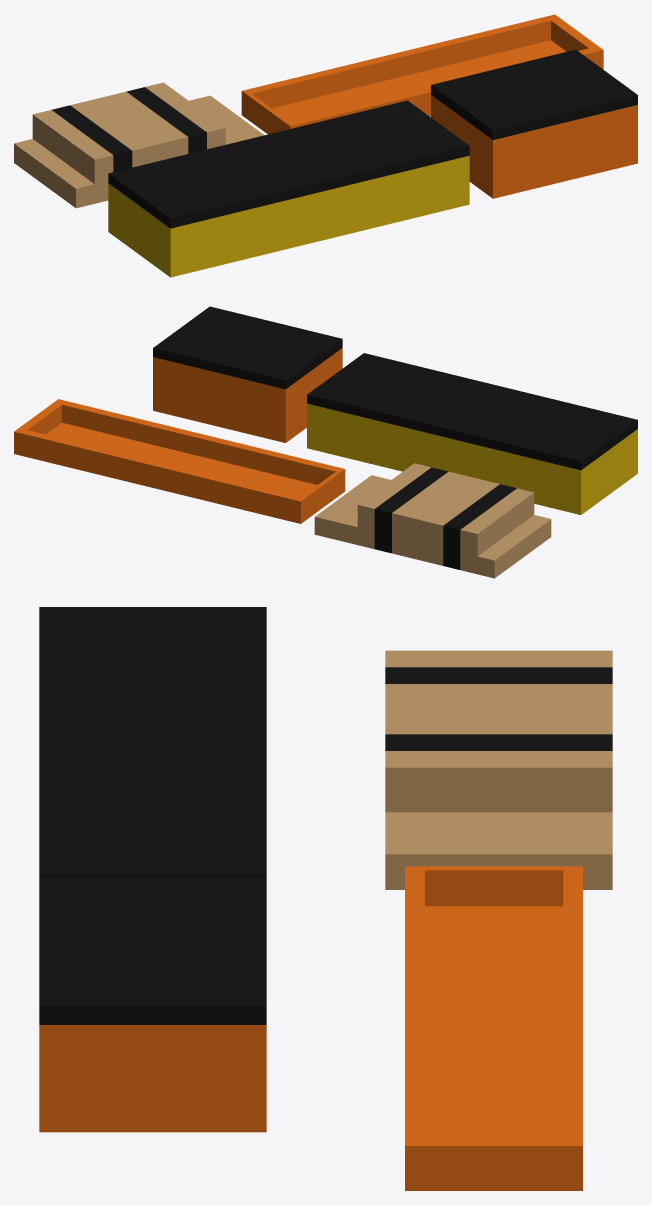
The model's file is rescue_truck_roof_gear.glb.
The picture shows the model from 3 angles, top to bottom: view 1: azimuth 30°, elevation 25°; view 2: azimuth 150°, elevation 25°; view 3: azimuth 270°, elevation 25°; orthographic projection. The views are drawn at different scales.
Parts seen in each view (by area): view 1: body:compound; view 2: body:compound; view 3: body:compound.
Part boxes in pixels (x1,y1,x2,y2): body:compound: [14, 14, 637, 277]; body:compound: [14, 306, 637, 578]; body:compound: [39, 607, 612, 1190].
Size of the model in its own units: 3.56 by 0.4375 by 1.81.
